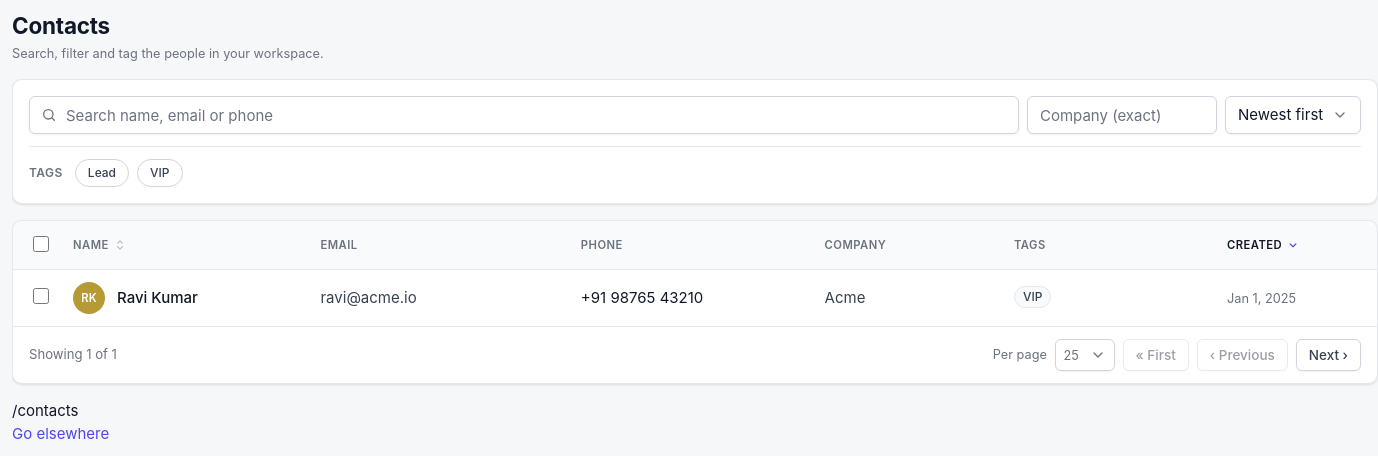
Test: ContactsPage › next-page prefetch (on intent only) › prefetches page 2 when the pointer reaches Next, so the click needs no request
The image size is (1378, 456).
Check: the link "Ravi Kumar" is shown, box [117,287,198,309]
Click the button "Next ›" at (1328, 355), box [1296,339,1361,371]
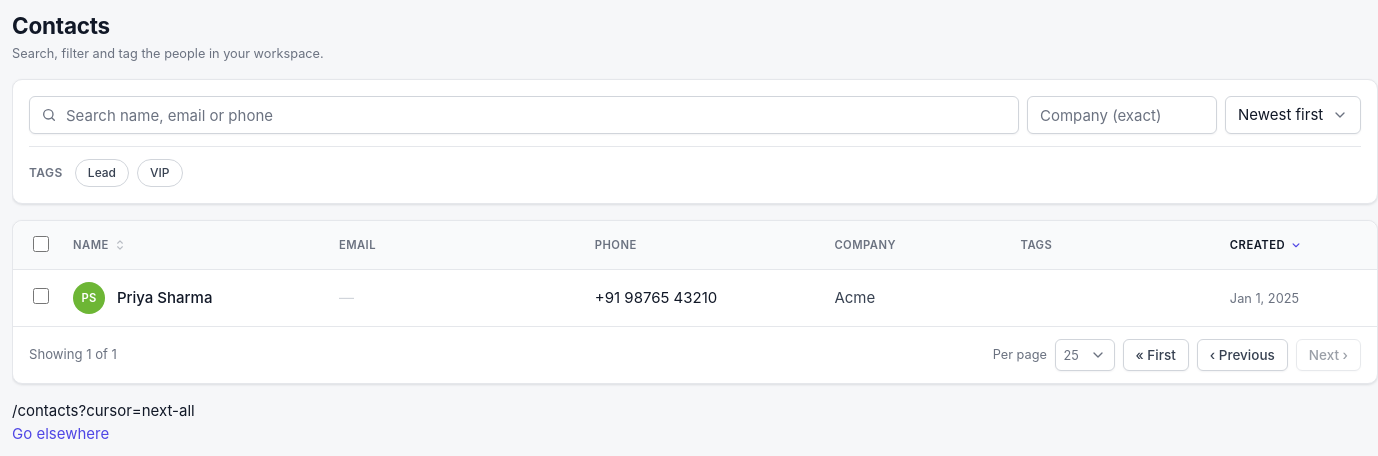
Check: the link "Priya Sharma" is shown, box [117,287,212,309]
